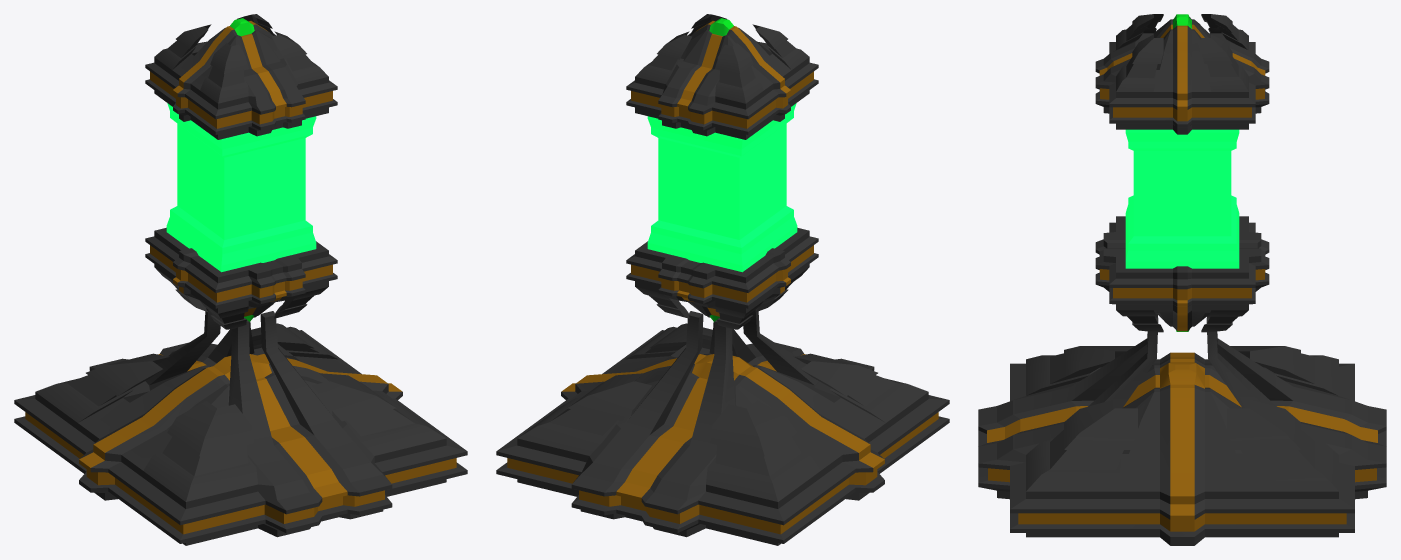
File: Artifact Animation.fbx
3 views of the same model, side by side, from view 1: azimuth 30°, elevation 25°; view 2: azimuth 150°, elevation 25°; view 3: azimuth 270°, elevation 25° (orthographic). The views are drawn at different scales.
Visible parts, largest first — view 1: Cube.066, Cube.060, Cube.061; view 2: Cube.066, Cube.060, Cube.061; view 3: Cube.066, Cube.060, Cube.061.
Part boxes in pixels (x1,y1,x2,y2): Cube.066: [14, 308, 467, 545]; Cube.060: [145, 14, 337, 329]; Cube.061: [166, 103, 316, 272]; Cube.066: [496, 308, 949, 545]; Cube.060: [626, 14, 818, 329]; Cube.061: [647, 103, 797, 272]; Cube.066: [978, 313, 1386, 545]; Cube.060: [1095, 14, 1269, 332]; Cube.061: [1125, 129, 1239, 268].
Bounding box in the file's own units: 603 × 868 × 658.
